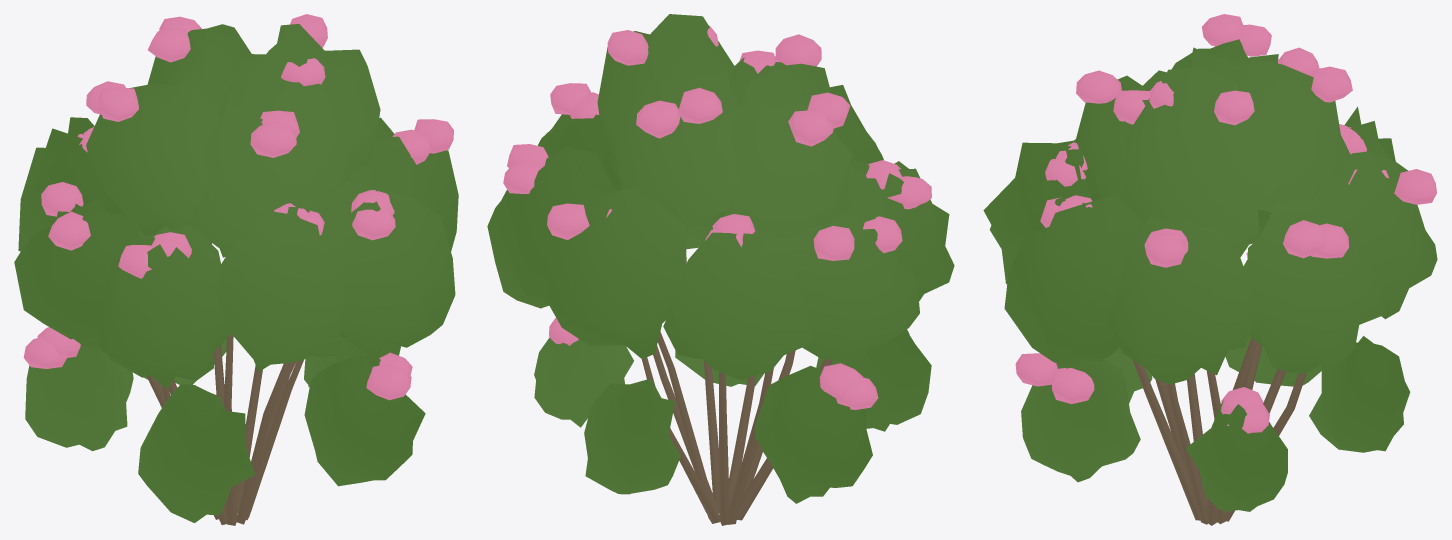
Rendered from Blender_Oleander_1.glb.
The picture shows the model from 3 angles, left to right: view 1: azimuth 30°, elevation 25°; view 2: azimuth 150°, elevation 25°; view 3: azimuth 270°, elevation 25°; orthographic projection.
Visible parts, largest first — view 1: Blender_Oleander_1; view 2: Blender_Oleander_1; view 3: Blender_Oleander_1.
Boxes of the visible parts, x1,y1,x2,y2 form: Blender_Oleander_1: [14, 14, 458, 525]; Blender_Oleander_1: [487, 14, 954, 525]; Blender_Oleander_1: [983, 14, 1437, 525].
Bounding box in the file's own units: 3.03 × 3.56 × 3.04.
